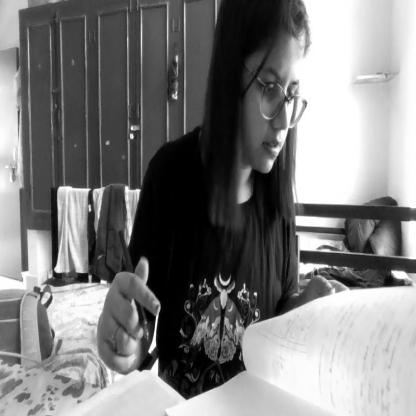Distracted: (217, 0, 311, 187)
